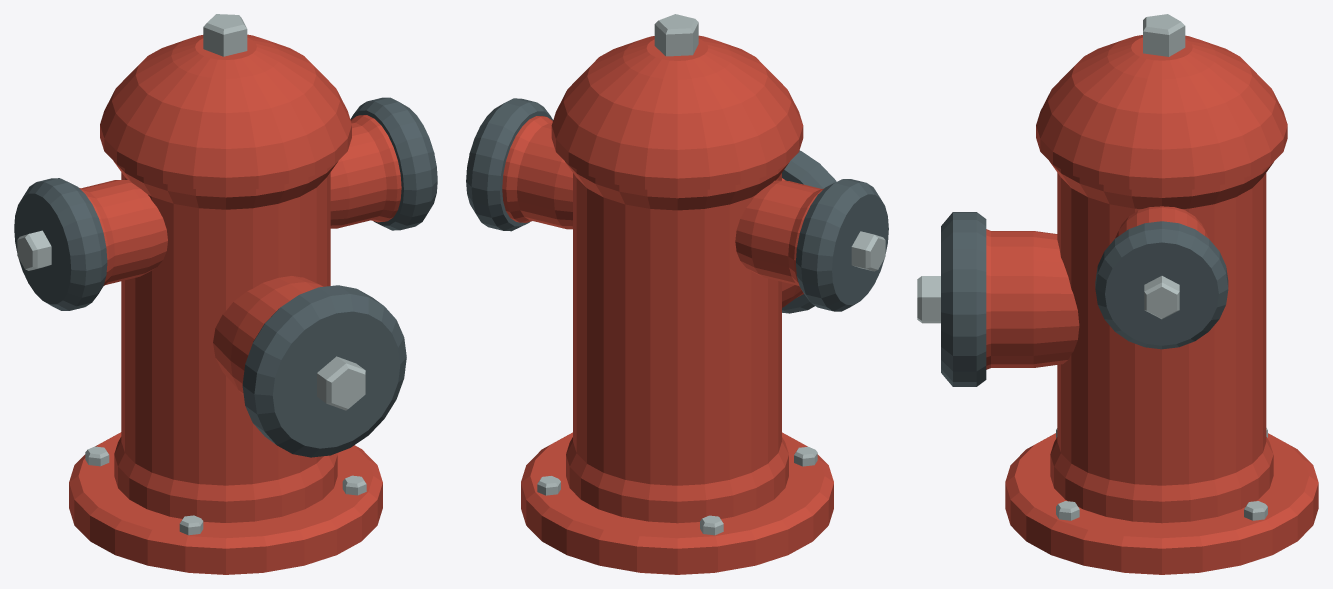
The picture shows the model from 3 angles, left to right: view 1: azimuth 30°, elevation 25°; view 2: azimuth 150°, elevation 25°; view 3: azimuth 270°, elevation 25°; orthographic projection.
Parts seen in each view (by area): view 1: Body_StoutColumn, Bonnet_FacetedDome, Outlet_Front_ClosedCap, Base_FlangedFoot, Outlet_Left_ClosedCap, Outlet_Right_Neck, Outlet_Left_Neck, Outlet_Right_ClosedCap, Outlet_Front_Neck, Outlet_Front_FixedBoss, Bonnet_FixedPentagonalNut, Outlet_Left_FixedBoss; view 2: Body_StoutColumn, Bonnet_FacetedDome, Base_FlangedFoot, Outlet_Left_ClosedCap, Outlet_Right_Neck, Outlet_Left_Neck, Outlet_Right_ClosedCap, Bonnet_FixedPentagonalNut, Outlet_Front_ClosedCap, Outlet_Left_FixedBoss; view 3: Body_StoutColumn, Bonnet_FacetedDome, Base_FlangedFoot, Outlet_Right_ClosedCap, Outlet_Front_Neck, Outlet_Front_ClosedCap, Bonnet_FixedPentagonalNut, Outlet_Right_Neck, Outlet_Right_FixedBoss, Outlet_Front_FixedBoss.
Boxes of the visible parts, <box> form: Body_StoutColumn: <box>113,161,338,522</box>; Bonnet_FacetedDome: <box>100,34,351,190</box>; Outlet_Front_ClosedCap: <box>242,285,406,457</box>; Base_FlangedFoot: <box>69,432,382,574</box>; Outlet_Left_ClosedCap: <box>14,178,107,310</box>; Outlet_Right_Neck: <box>330,115,401,228</box>; Outlet_Left_Neck: <box>79,180,167,286</box>; Outlet_Right_ClosedCap: <box>350,97,437,230</box>; Outlet_Front_Neck: <box>213,276,323,395</box>; Outlet_Front_FixedBoss: <box>317,356,365,410</box>; Bonnet_FixedPentagonalNut: <box>203,14,247,56</box>; Outlet_Left_FixedBoss: <box>17,230,51,270</box>; Body_StoutColumn: <box>565,161,789,523</box>; Bonnet_FacetedDome: <box>551,35,803,191</box>; Base_FlangedFoot: <box>521,432,833,574</box>; Outlet_Left_ClosedCap: <box>796,179,888,311</box>; Outlet_Right_Neck: <box>502,116,572,229</box>; Outlet_Left_Neck: <box>735,180,823,286</box>; Outlet_Right_ClosedCap: <box>466,98,553,231</box>; Bonnet_FixedPentagonalNut: <box>654,14,698,56</box>; Outlet_Front_ClosedCap: <box>782,150,836,313</box>; Outlet_Left_FixedBoss: <box>851,231,885,271</box>; Body_StoutColumn: <box>1050,162,1273,523</box>; Bonnet_FacetedDome: <box>1036,35,1287,191</box>; Base_FlangedFoot: <box>1005,433,1318,574</box>; Outlet_Right_ClosedCap: <box>1095,221,1228,349</box>; Outlet_Front_Neck: <box>986,229,1079,369</box>; Outlet_Front_ClosedCap: <box>941,212,986,386</box>; Bonnet_FixedPentagonalNut: <box>1143,14,1185,56</box>; Outlet_Right_Neck: <box>1115,206,1208,238</box>; Outlet_Right_FixedBoss: <box>1144,276,1179,319</box>; Outlet_Front_FixedBoss: <box>917,276,940,323</box>.
Bounding box in the file's own units: 0.976 × 1.14 × 0.845.
